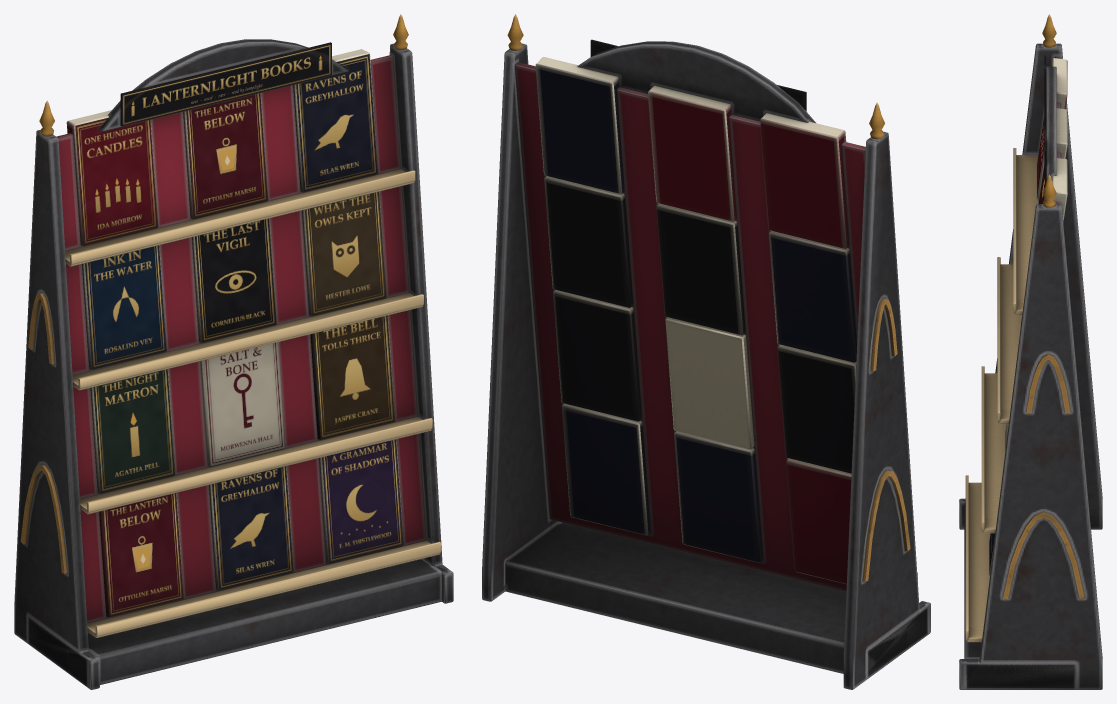
Rendered from BookStandAngled.fbx.
The picture shows the model from 3 angles, left to right: view 1: azimuth 30°, elevation 25°; view 2: azimuth 150°, elevation 25°; view 3: azimuth 270°, elevation 25°; orthographic projection. The views are drawn at different scales.
Parts seen in each view (by area): view 1: BookStandAngled; view 2: BookStandAngled; view 3: BookStandAngled.
Boxes of the visible parts, <box> form: BookStandAngled: <box>14,14,453,689</box>; BookStandAngled: <box>482,14,930,689</box>; BookStandAngled: <box>959,14,1102,689</box>.
Bounding box in the file's own units: 386 × 565 × 140.
